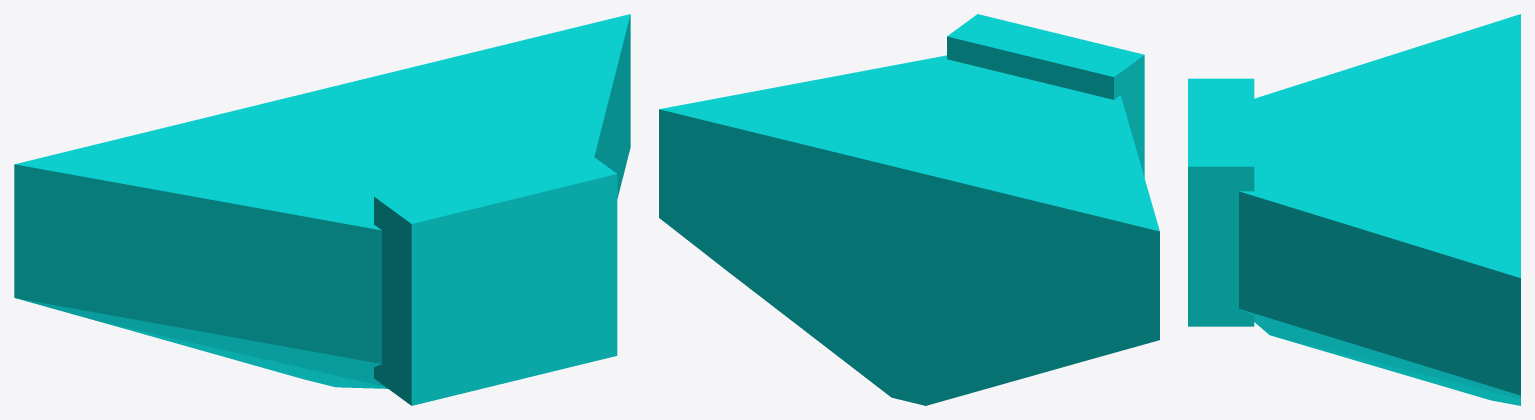
The model's file is SM_Prop_Gargoyle_Base_01_Collision.fbx.
3 views of the same model, side by side, from view 1: azimuth 30°, elevation 25°; view 2: azimuth 150°, elevation 25°; view 3: azimuth 270°, elevation 25° (orthographic). The views are drawn at different scales.
Parts seen in each view (by area): view 1: SM_Prop_Gargoyle_Base_01_Collision; view 2: SM_Prop_Gargoyle_Base_01_Collision; view 3: SM_Prop_Gargoyle_Base_01_Collision.
Boxes of the visible parts, x1,y1,x2,y2 form: SM_Prop_Gargoyle_Base_01_Collision: [14, 14, 630, 405]; SM_Prop_Gargoyle_Base_01_Collision: [659, 14, 1159, 405]; SM_Prop_Gargoyle_Base_01_Collision: [1188, 14, 1520, 405].
Size of the model in its own units: 260 by 126 by 138.
